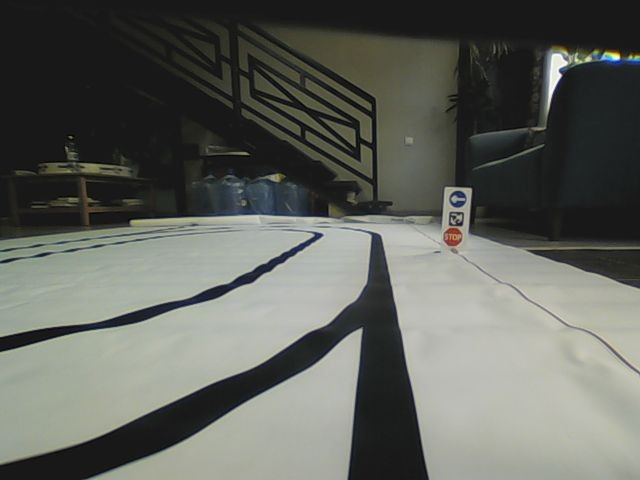Stop: (442, 228, 464, 246)
